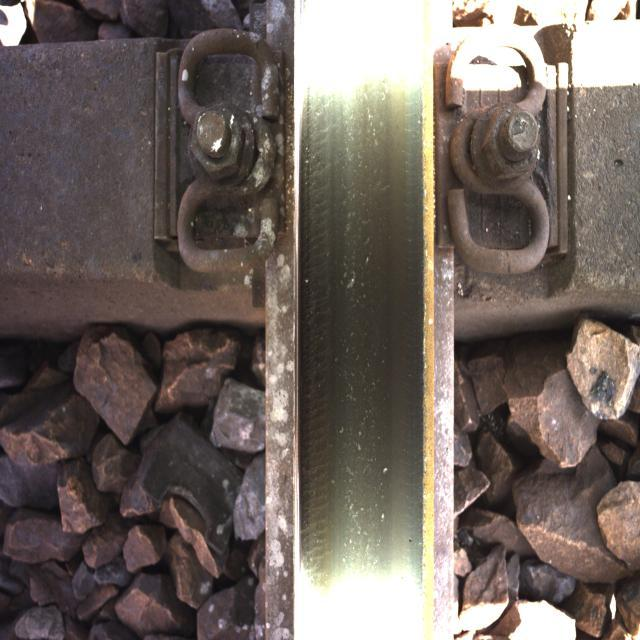break: (299, 52, 416, 550)
